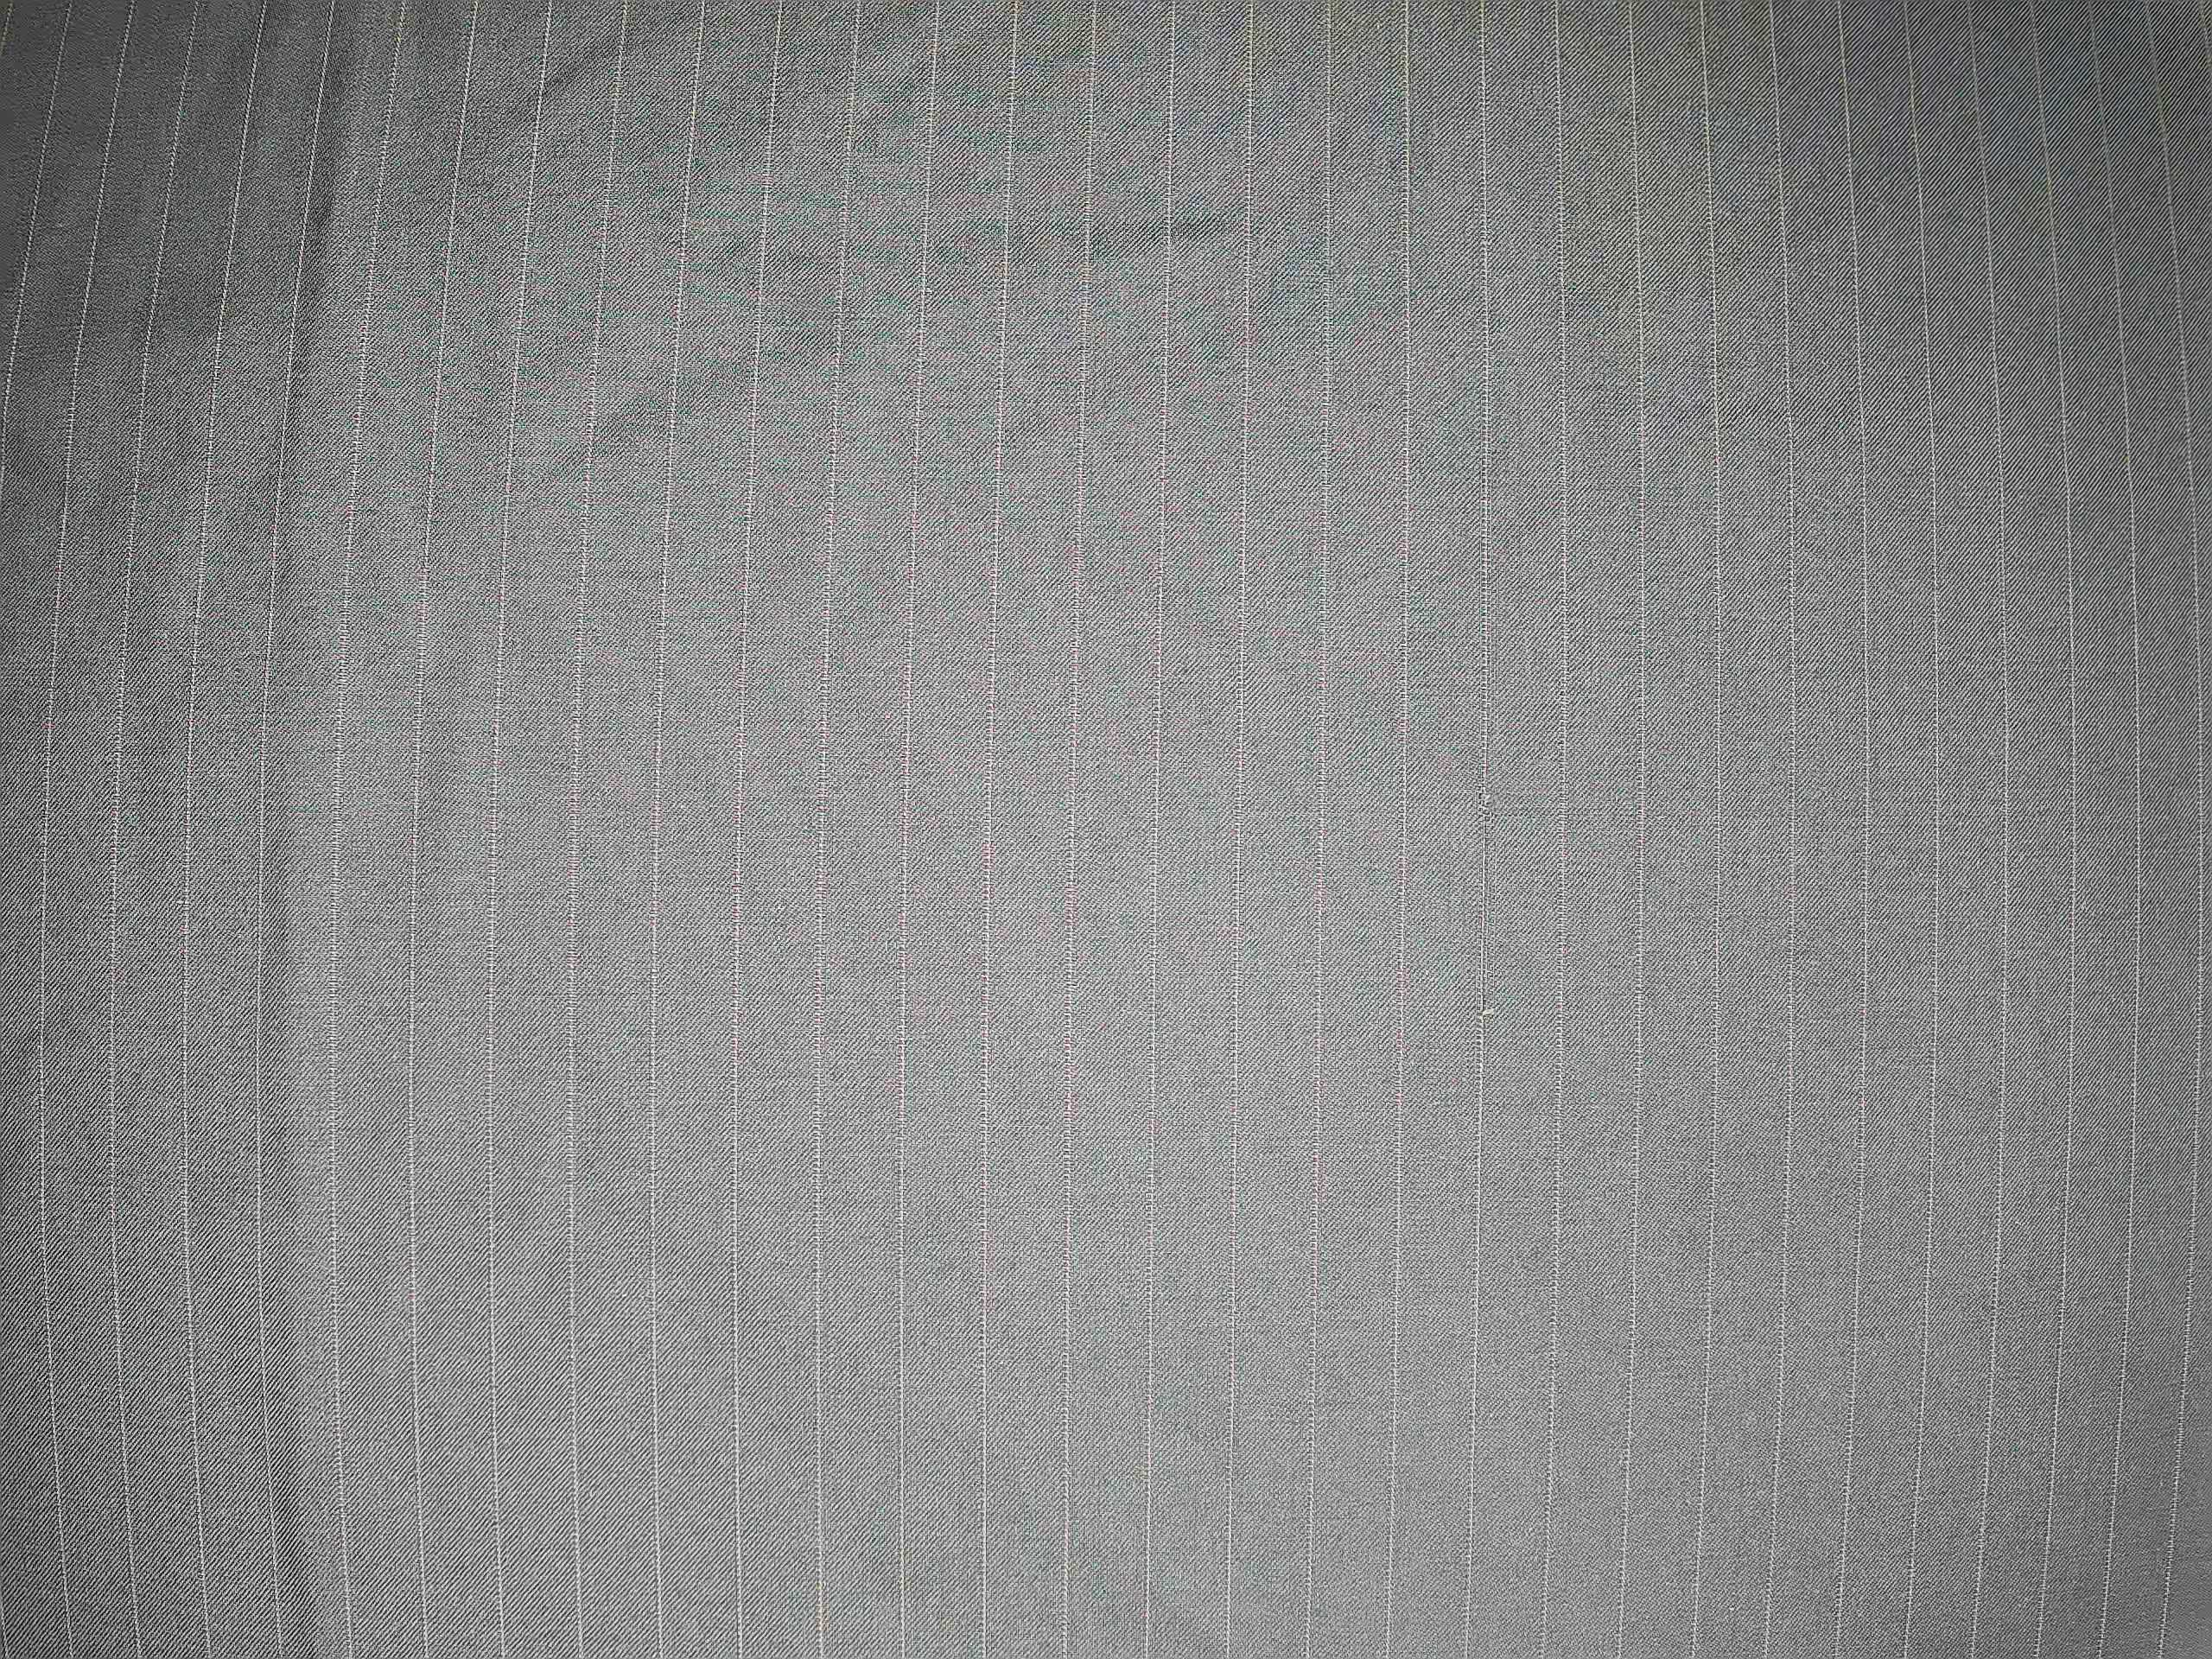hanging-warp: (1456, 474, 1517, 1258)
